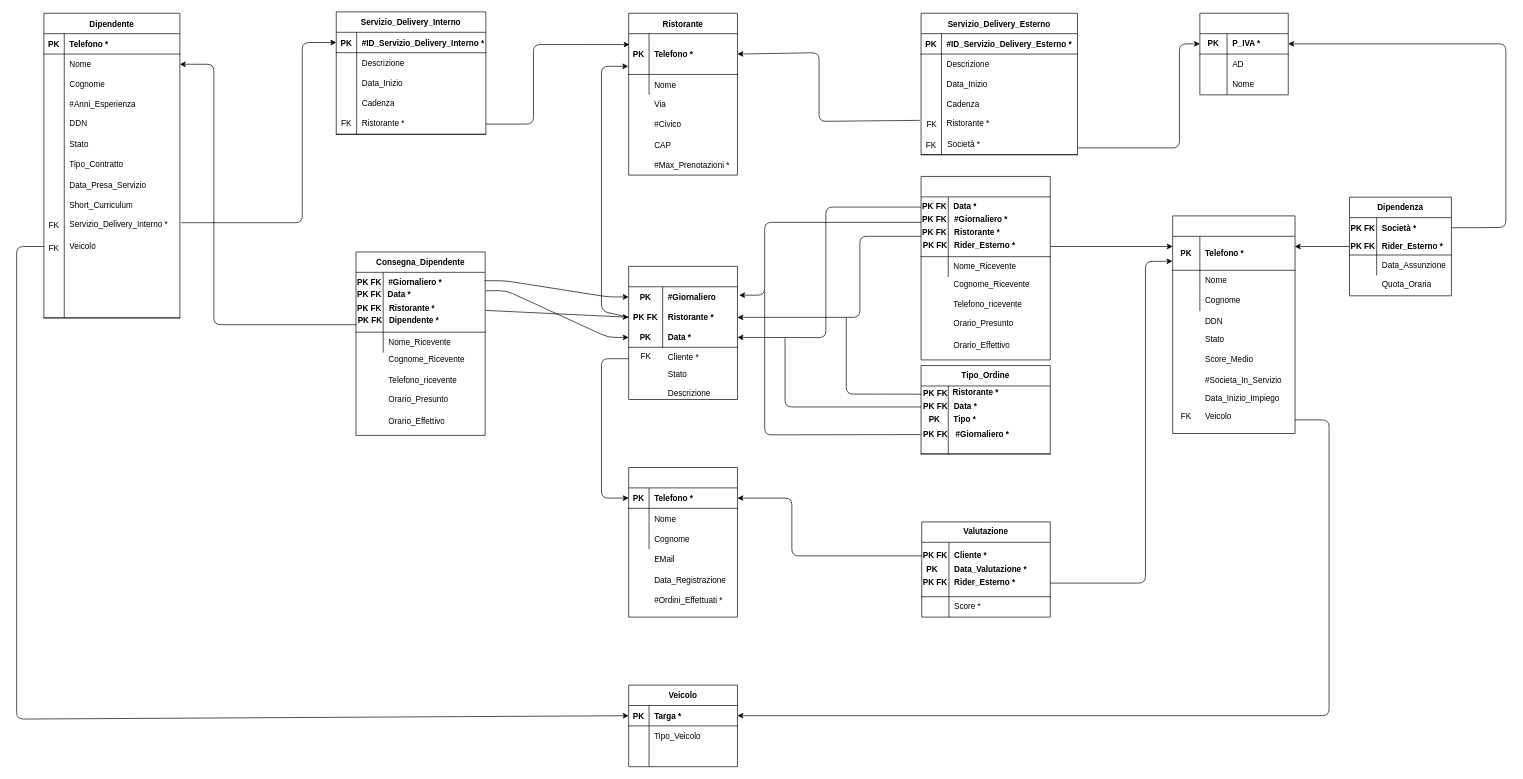
The diagram is 1523 pixels wide and 779 high, and some of its shapes have lost their labels. Each missing label, with the box of its shape:
Cliente: (628, 467, 737, 617)
Consegna_Rider_Esterno: (920, 176, 1050, 360)
Ordine: (628, 266, 737, 400)
Rider_Esterno: (1172, 215, 1295, 434)
Societa_Delivery: (1199, 13, 1288, 95)
